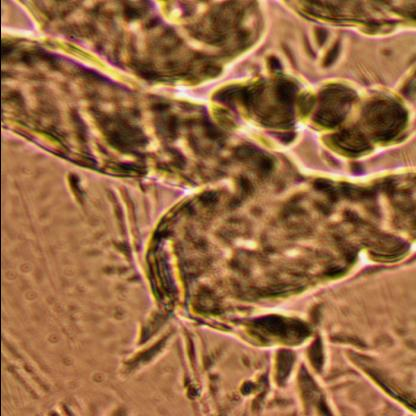Normal: (0, 0, 416, 353)
